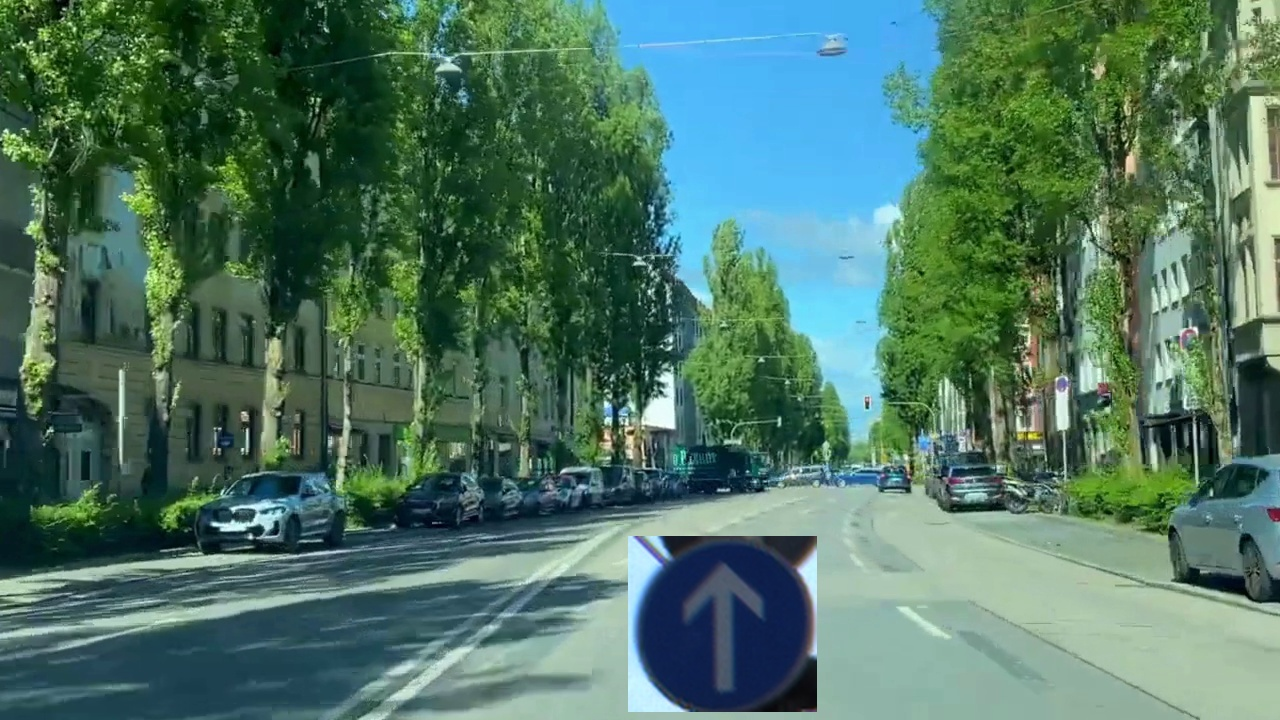Ahead only: (628, 536, 817, 712)
